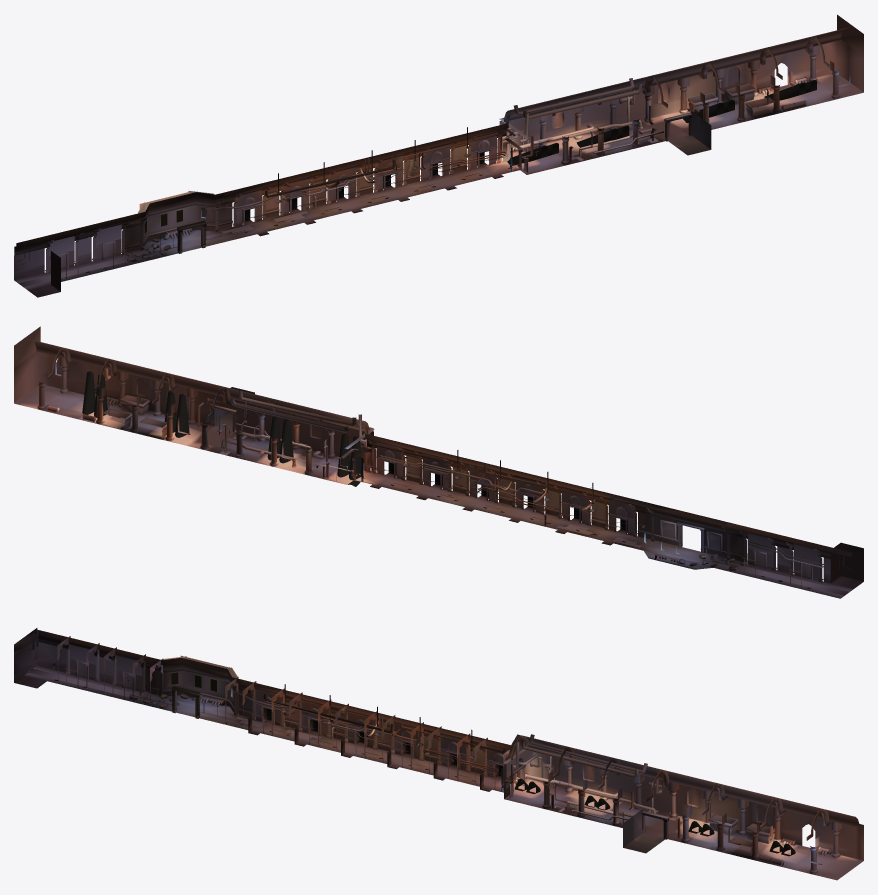
File: 01Opening.gltf
The picture shows the model from 3 angles, top to bottom: view 1: azimuth 30°, elevation 25°; view 2: azimuth 150°, elevation 25°; view 3: azimuth 330°, elevation 25°; orthographic projection.
Parts seen in each view (by area): view 1: stg033_o03_Mesh_0025, stg033_o03_Mesh_0001, stg033_o03_Mesh_0006, stg033_o03_Mesh_0007, stg033_o03_Mesh_0041, stg033_o03_Mesh_0058, stg033_o03_Mesh_0051, stg033_o04_Mesh_0009, stg033_o03_Mesh_0060, stg033_o03_Mesh_0052, stg033_o03_Mesh_0027, stg033_g03_Mesh_0000 (+13 smaller); view 2: stg033_o03_Mesh_0025, stg033_o03_Mesh_0001, stg033_o03_Mesh_0006, stg033_o03_Mesh_0058, stg033_o03_Mesh_0041, stg033_o04_Mesh_0009, stg033_o03_Mesh_0007, stg033_o03_Mesh_0060, stg033_g03_Mesh_0000, stg033_o03_Mesh_0051, stg033_o03_Mesh_0052, stg033_o03_Mesh_0049 (+14 smaller); view 3: stg033_o03_Mesh_0025, stg033_o03_Mesh_0006, stg033_o03_Mesh_0001, stg033_o03_Mesh_0058, stg033_o03_Mesh_0007, stg033_o04_Mesh_0009, stg033_o03_Mesh_0041, stg033_o03_Mesh_0051, stg033_o03_Mesh_0060, stg033_o03_Mesh_0052, stg033_o03_Mesh_0057, stg033_o03_Mesh_0027 (+15 smaller).
Boxes of the visible parts, x1=… form: stg033_o03_Mesh_0025: x1=14, y1=62, x2=863, y2=297; stg033_o03_Mesh_0001: x1=46, y1=14, x2=863, y2=264; stg033_o03_Mesh_0006: x1=18, y1=71, x2=806, y2=264; stg033_o03_Mesh_0007: x1=499, y1=40, x2=863, y2=141; stg033_o03_Mesh_0041: x1=14, y1=79, x2=840, y2=256; stg033_o03_Mesh_0058: x1=16, y1=74, x2=863, y2=296; stg033_o03_Mesh_0051: x1=14, y1=130, x2=709, y2=291; stg033_o04_Mesh_0009: x1=49, y1=133, x2=496, y2=269; stg033_o03_Mesh_0060: x1=233, y1=76, x2=856, y2=224; stg033_o03_Mesh_0052: x1=66, y1=40, x2=863, y2=276; stg033_o03_Mesh_0027: x1=49, y1=60, x2=863, y2=263; stg033_g03_Mesh_0000: x1=507, y1=80, x2=816, y2=165; stg033_o03_Mesh_0025: x1=14, y1=362, x2=863, y2=598; stg033_o03_Mesh_0001: x1=14, y1=326, x2=821, y2=573; stg033_o03_Mesh_0006: x1=47, y1=368, x2=850, y2=572; stg033_o03_Mesh_0058: x1=14, y1=385, x2=859, y2=597; stg033_o03_Mesh_0041: x1=37, y1=390, x2=851, y2=565; stg033_o04_Mesh_0009: x1=376, y1=443, x2=819, y2=578; stg033_o03_Mesh_0007: x1=14, y1=352, x2=373, y2=451; stg033_o03_Mesh_0060: x1=21, y1=387, x2=636, y2=533; stg033_g03_Mesh_0000: x1=82, y1=371, x2=361, y2=486; stg033_o03_Mesh_0051: x1=214, y1=410, x2=840, y2=582; stg033_o03_Mesh_0052: x1=14, y1=351, x2=813, y2=585; stg033_o03_Mesh_0049: x1=39, y1=371, x2=627, y2=517; stg033_o03_Mesh_0025: x1=14, y1=666, x2=863, y2=864; stg033_o03_Mesh_0006: x1=28, y1=630, x2=829, y2=865; stg033_o03_Mesh_0001: x1=61, y1=641, x2=859, y2=852; stg033_o03_Mesh_0058: x1=18, y1=667, x2=863, y2=880; stg033_o03_Mesh_0007: x1=504, y1=752, x2=863, y2=847; stg033_o04_Mesh_0009: x1=70, y1=644, x2=508, y2=785; stg033_o03_Mesh_0041: x1=14, y1=628, x2=840, y2=874; stg033_o03_Mesh_0051: x1=14, y1=642, x2=641, y2=845; stg033_o03_Mesh_0060: x1=243, y1=695, x2=856, y2=877; stg033_o03_Mesh_0052: x1=66, y1=662, x2=863, y2=878; stg033_o03_Mesh_0057: x1=66, y1=674, x2=850, y2=872; stg033_o03_Mesh_0027: x1=65, y1=657, x2=863, y2=860.
Bounding box in the file's own units: 355 × 25.77 × 38.
